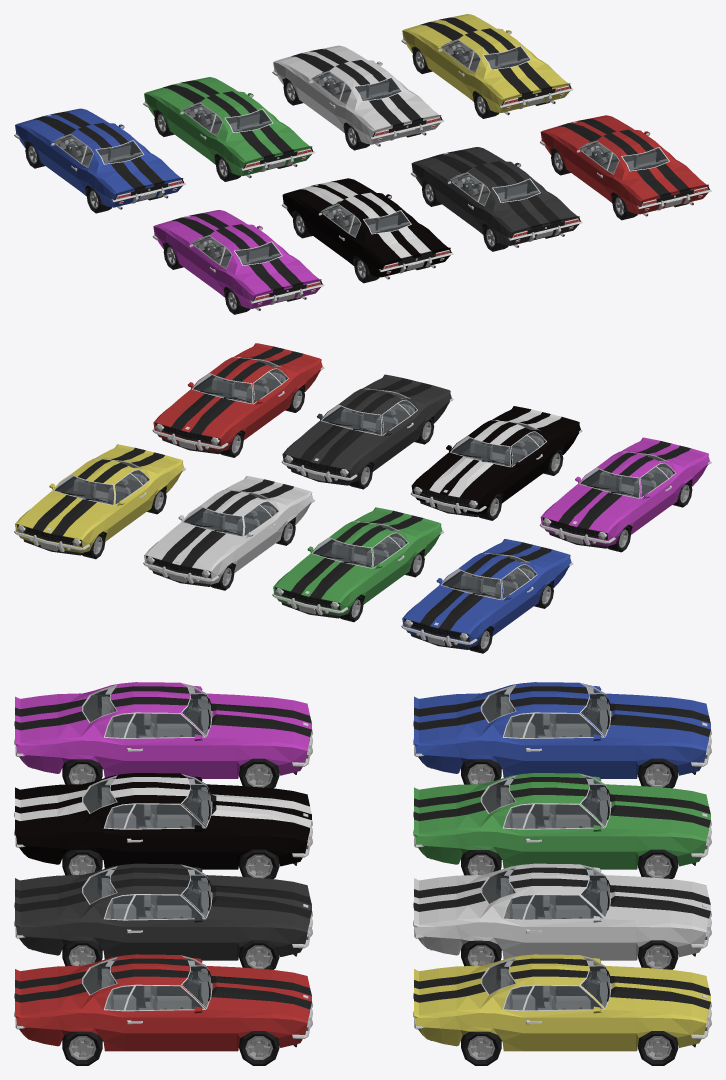
File: Muscle_car_pack.fbx
3 renders of one model, top to bottom at view 1: azimuth 30°, elevation 25°; view 2: azimuth 150°, elevation 25°; view 3: azimuth 270°, elevation 25°, orthographic. The views are drawn at different scales.
Visible parts, largest first — view 1: Muscle_car_01_8, Muscle_car_01_4, Muscle_car_01_3, Muscle_car_01_2, Muscle_car_01, Muscle_car_01_6, Muscle_car_01_5, Muscle_car_01_7, Window, Window_2, Window_3, Window_7 (+4 smaller); view 2: Muscle_car_01, Muscle_car_01_2, Muscle_car_01_5, Muscle_car_01_3, Muscle_car_01_4, Muscle_car_01_6, Muscle_car_01_7, Muscle_car_01_8, Window_3, Window, Window_8, Window_6 (+4 smaller); view 3: Muscle_car_01, Muscle_car_01_5, Muscle_car_01_2, Muscle_car_01_4, Muscle_car_01_6, Muscle_car_01_8, Muscle_car_01_3, Muscle_car_01_7, Window_6, Window_8, Window_5, Window (+20 smaller).
Part boxes in pixels (box(x1,y1,x2,y2)): Muscle_car_01_8: box(14, 108, 185, 209); Muscle_car_01_4: box(152, 210, 324, 310); Muscle_car_01_3: box(281, 178, 453, 279); Muscle_car_01_2: box(411, 147, 582, 247); Muscle_car_01: box(540, 115, 711, 216); Muscle_car_01_6: box(272, 45, 443, 146); Muscle_car_01_5: box(401, 14, 573, 115); Muscle_car_01_7: box(143, 77, 315, 178); Window: box(580, 142, 667, 173); Window_2: box(451, 173, 538, 204); Window_3: box(322, 203, 409, 236); Window_7: box(184, 103, 271, 135); Muscle_car_01: box(152, 343, 324, 454); Muscle_car_01_2: box(281, 374, 453, 485); Muscle_car_01_5: box(14, 444, 185, 555); Muscle_car_01_3: box(410, 406, 582, 516); Muscle_car_01_4: box(539, 437, 711, 548); Muscle_car_01_6: box(143, 476, 314, 586); Muscle_car_01_7: box(272, 507, 444, 618); Muscle_car_01_8: box(401, 539, 573, 649); Window_3: box(452, 422, 545, 466); Window: box(194, 359, 287, 403); Window_8: box(442, 555, 535, 598); Window_6: box(184, 491, 277, 535); Muscle_car_01: box(14, 954, 312, 1051); Muscle_car_01_5: box(413, 954, 711, 1051); Muscle_car_01_2: box(14, 863, 312, 960); Muscle_car_01_4: box(14, 682, 312, 778); Muscle_car_01_6: box(413, 863, 711, 960); Muscle_car_01_8: box(413, 682, 711, 778); Muscle_car_01_3: box(14, 773, 312, 869); Muscle_car_01_7: box(413, 773, 711, 869); Window_6: box(482, 867, 609, 919); Window_8: box(482, 686, 609, 737); Window_5: box(482, 958, 609, 1009); Window: box(83, 958, 210, 1009).
Bounding box in the file's own units: 1250 × 138 × 1137.
Materials: 2 (1 with a texture image).
